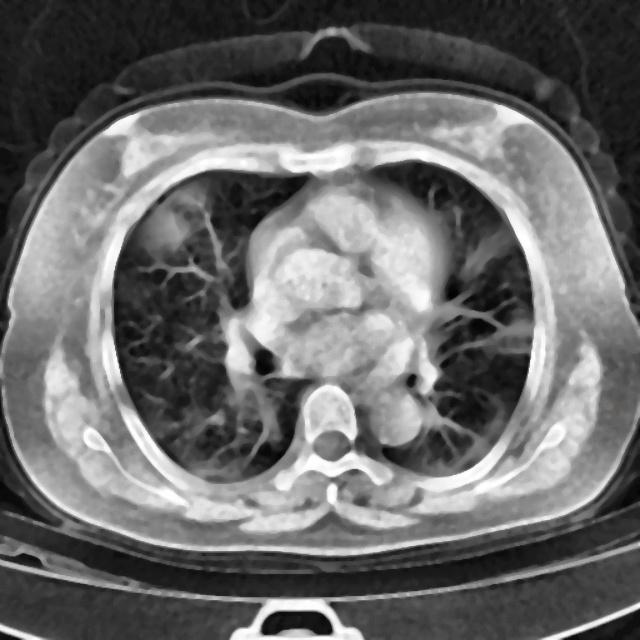covid: (1, 28, 638, 572)
